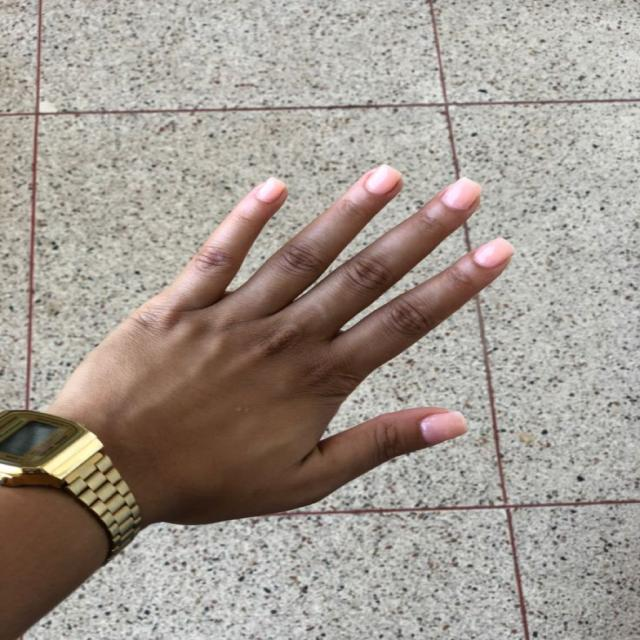Fingernail: (421, 411, 468, 444), (441, 177, 481, 209), (474, 237, 515, 268), (365, 164, 401, 194), (256, 177, 285, 204)
